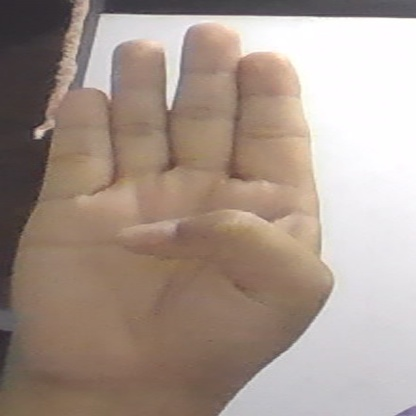B: (3, 21, 335, 410)
